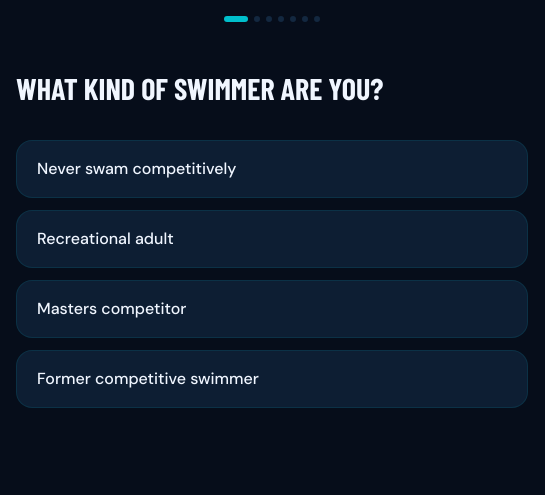
Test: OnboardingPage › advances to next step when a single-select option is clicked
Click the button "Recreational adult".
click(105, 238)  # box [16,210,528,268]
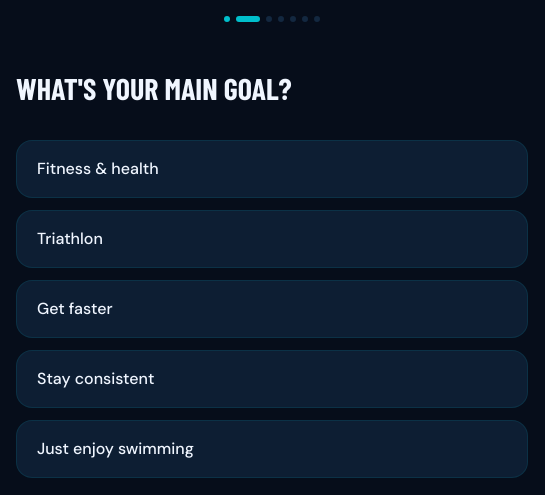
Now the heading "WHAT'S YOUR MAIN GOAL?" is shown, box [16,70,292,106]
